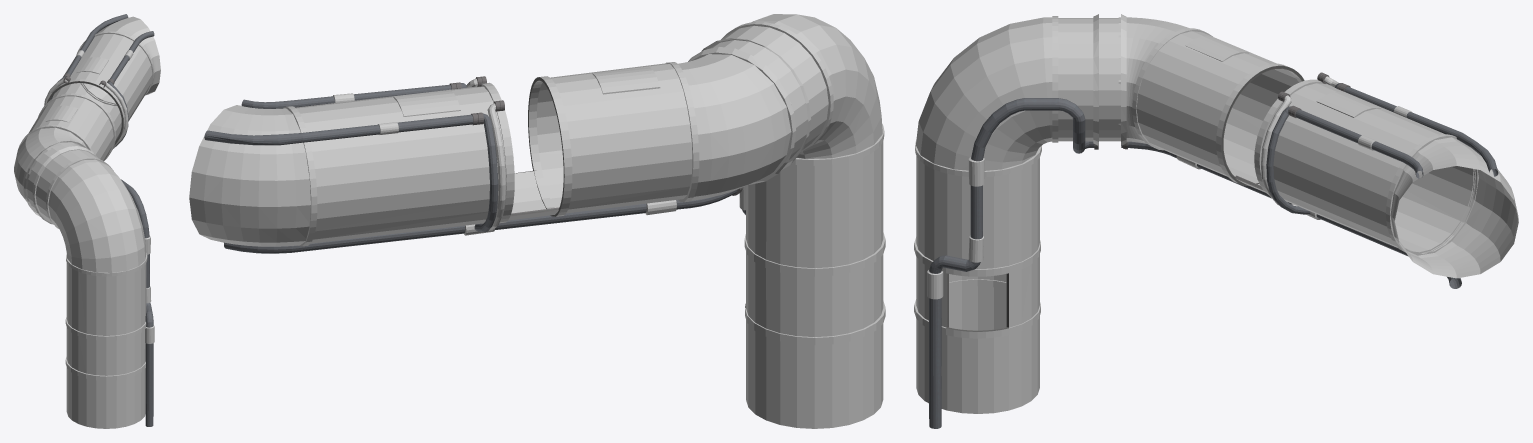
File: AreaJ_Pipe_Outside_Ba.fbx
3 views of the same model, side by side, from view 1: azimuth 30°, elevation 25°; view 2: azimuth 150°, elevation 25°; view 3: azimuth 270°, elevation 25° (orthographic). The views are drawn at different scales.
Visible parts, largest first — view 1: SM_ENV_AMVLLG02_AreaJ_Pipe_Outside_Ba.mo; view 2: SM_ENV_AMVLLG02_AreaJ_Pipe_Outside_Ba.mo; view 3: SM_ENV_AMVLLG02_AreaJ_Pipe_Outside_Ba.mo.
Part boxes in pixels (left/top/right/bottom): SM_ENV_AMVLLG02_AreaJ_Pipe_Outside_Ba.mo: left=14, top=14, right=160, bottom=428; SM_ENV_AMVLLG02_AreaJ_Pipe_Outside_Ba.mo: left=189, top=14, right=885, bottom=428; SM_ENV_AMVLLG02_AreaJ_Pipe_Outside_Ba.mo: left=914, top=14, right=1518, bottom=428.
Size of the model in its own units: 5446 by 5742 by 8175.
